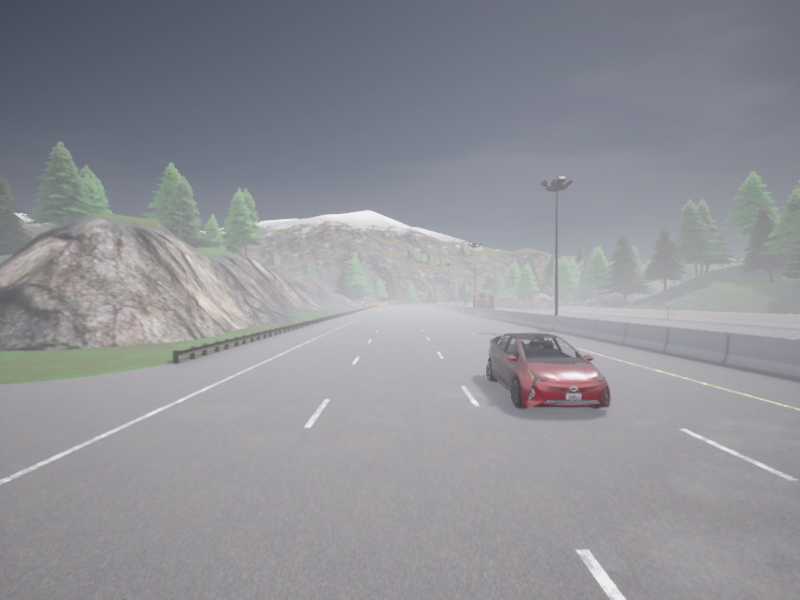vehicle: (487, 333, 610, 408), (472, 293, 493, 308), (463, 302, 468, 304), (454, 302, 457, 305)
